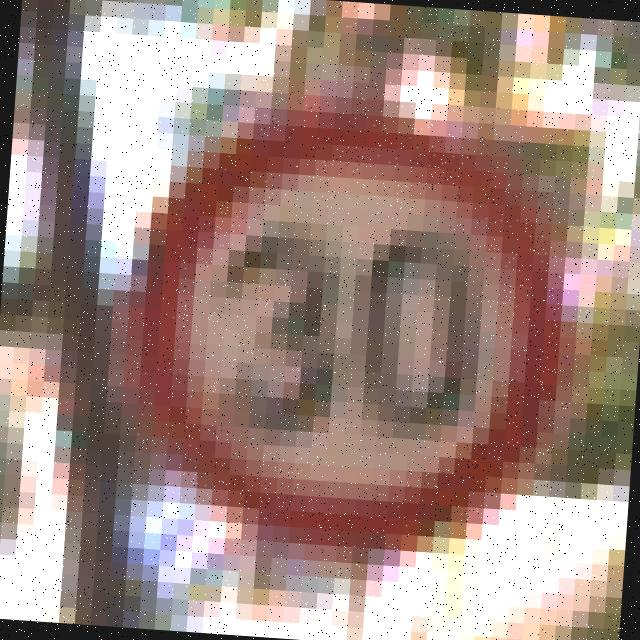Ograniczenie predkosci do 30: (109, 100, 583, 576)
